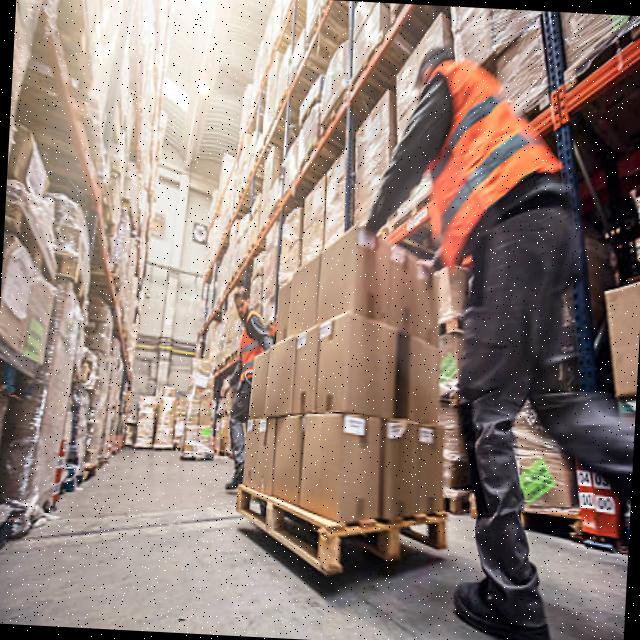Wooden-Pallets: (238, 481, 451, 583)
